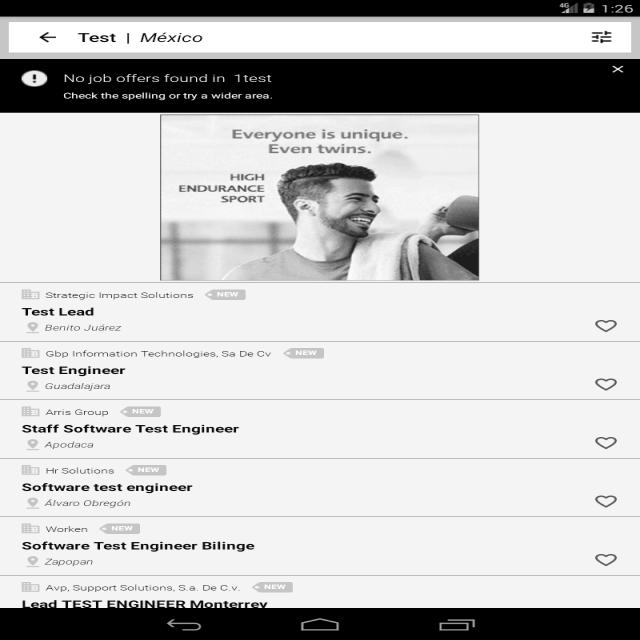ImageButton: (588, 25, 621, 50), (33, 30, 63, 46), (598, 57, 625, 73)
ImageView: (586, 546, 635, 570), (11, 66, 56, 91), (575, 373, 631, 393), (585, 488, 624, 510), (583, 319, 630, 335), (590, 431, 624, 453)
TextView: (23, 343, 325, 391), (16, 404, 246, 450), (17, 521, 254, 565), (16, 288, 247, 332), (14, 577, 292, 607), (22, 464, 192, 512), (61, 70, 276, 100), (222, 126, 405, 152), (183, 169, 267, 207), (134, 28, 206, 47), (70, 31, 120, 47)
